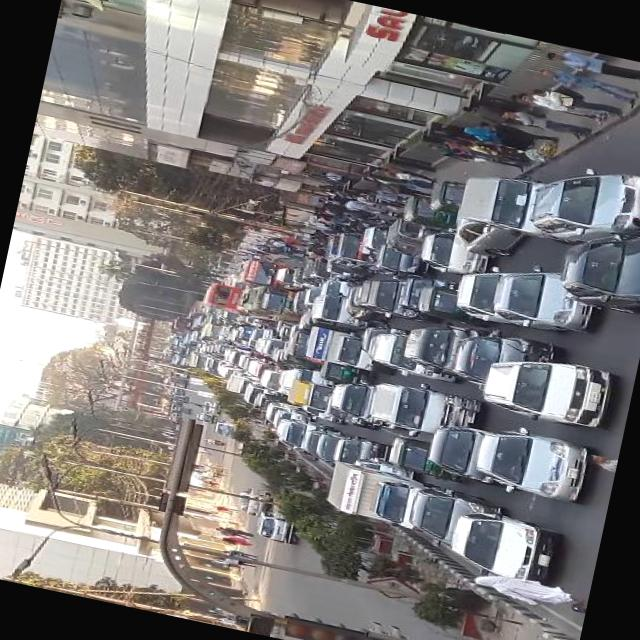bus: (232, 278, 306, 324), (230, 256, 292, 294), (282, 377, 335, 413), (200, 280, 248, 315), (197, 321, 230, 345), (184, 349, 212, 370), (170, 316, 190, 330)
car: (524, 152, 640, 257), (478, 345, 610, 432), (443, 504, 562, 590), (488, 256, 602, 341), (470, 425, 590, 504), (444, 321, 559, 400), (554, 221, 640, 317), (402, 484, 507, 560), (452, 260, 538, 328), (416, 222, 494, 280), (449, 215, 522, 263), (328, 432, 385, 472), (252, 504, 300, 544), (312, 431, 341, 466), (236, 485, 267, 516), (212, 418, 235, 438), (200, 398, 213, 412)
motorcycle: (381, 432, 467, 483), (414, 282, 492, 327), (382, 214, 430, 258), (399, 192, 448, 228), (428, 178, 457, 215), (200, 436, 227, 448)
truck: (365, 374, 489, 449), (454, 165, 575, 241), (323, 462, 438, 532), (368, 327, 467, 387), (401, 317, 486, 381), (354, 269, 442, 328), (326, 372, 406, 432), (299, 323, 390, 374), (394, 271, 457, 318), (322, 224, 378, 270), (306, 290, 366, 332), (270, 416, 324, 452), (283, 328, 326, 364), (356, 220, 392, 253), (258, 368, 290, 396), (254, 334, 288, 360), (244, 356, 276, 380), (224, 374, 252, 396), (228, 328, 255, 346)
